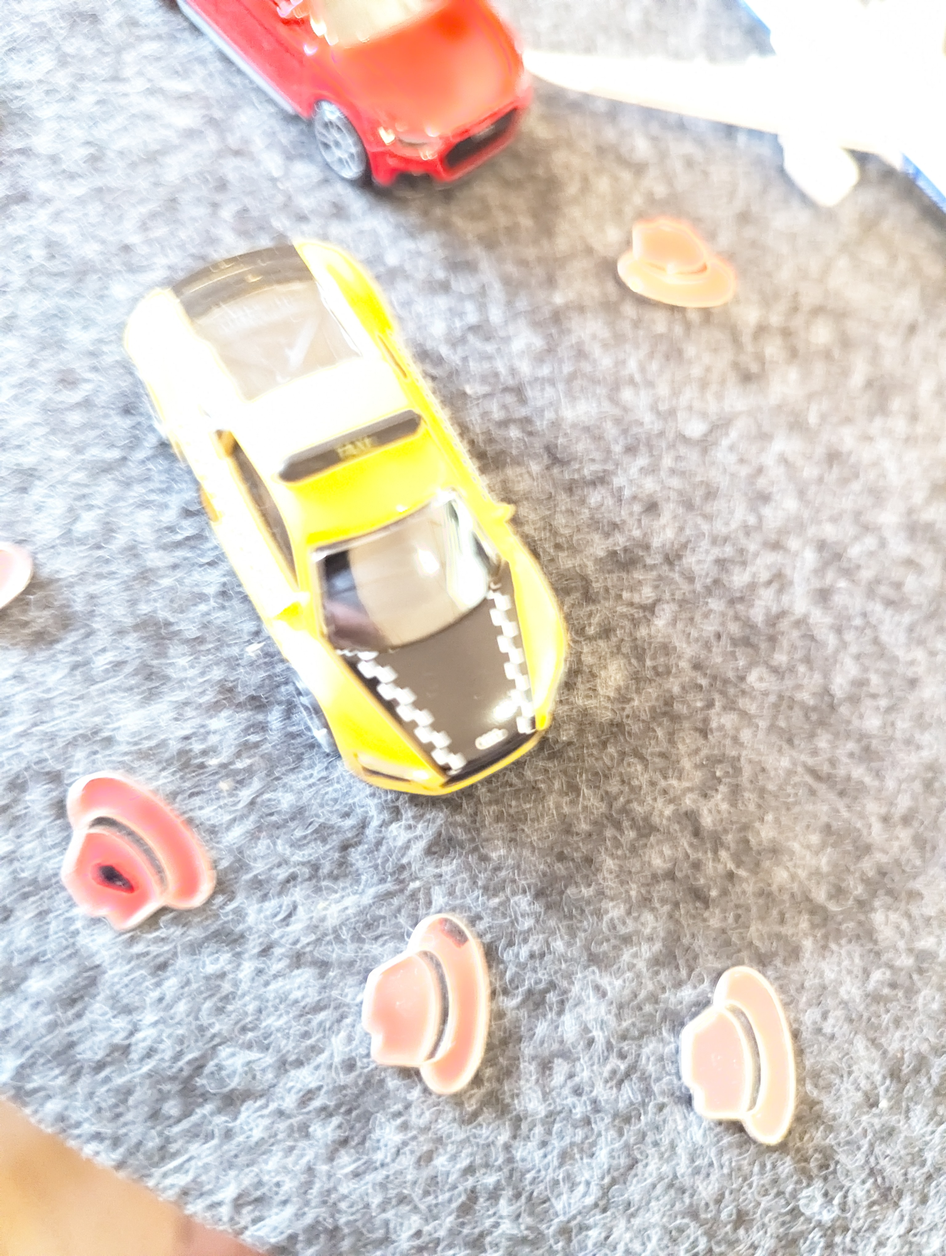Car: (71, 215, 663, 843), (130, 0, 562, 196)
Red-Hat: (340, 865, 536, 1126), (31, 753, 242, 960), (650, 935, 827, 1157), (583, 187, 761, 339)
Scratch: (432, 894, 501, 974), (82, 847, 144, 907)
